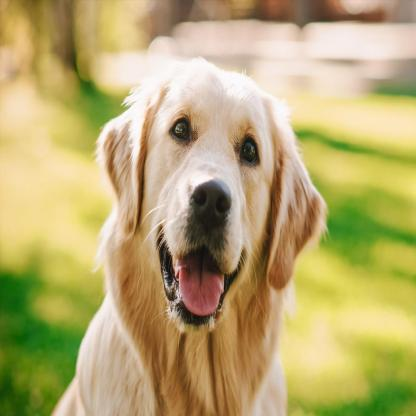dog: (50, 54, 328, 416)
